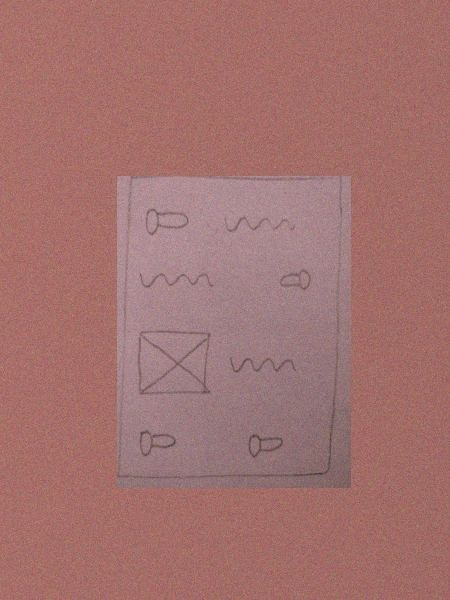image: (131, 323, 215, 401)
switch: (143, 204, 191, 240), (239, 428, 286, 464), (271, 261, 319, 296), (134, 426, 181, 461)
text: (218, 208, 298, 239), (223, 351, 300, 380), (137, 265, 213, 294)
